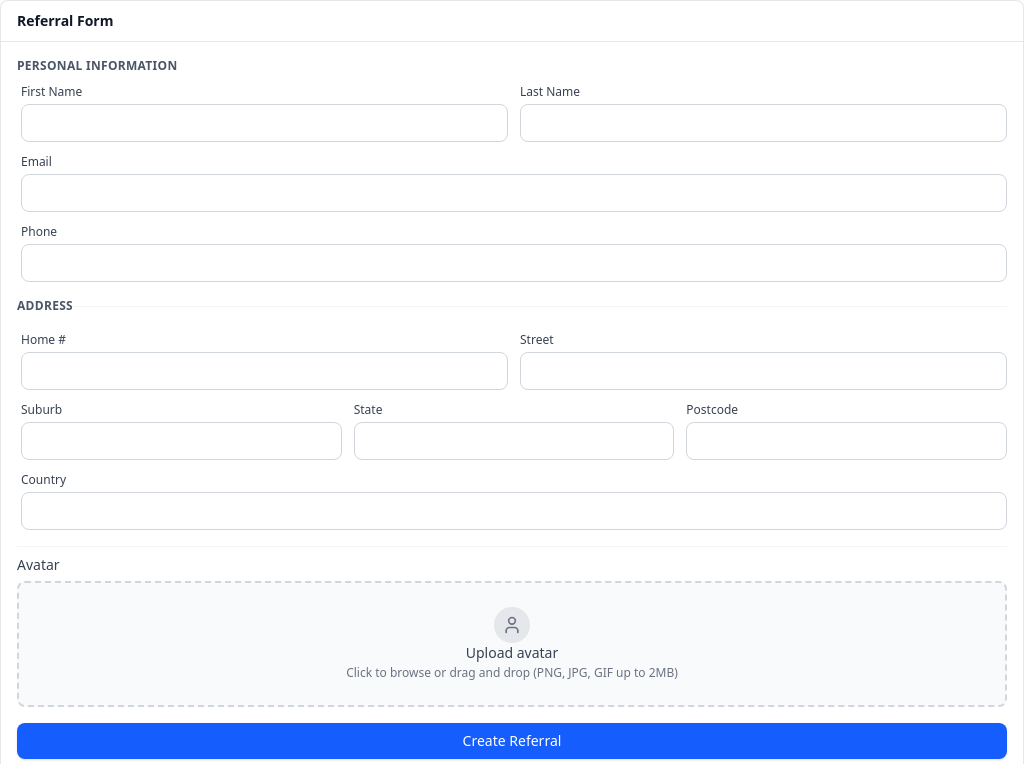
it: ReferralForm › shows validation errors when submitting empty form
What coordinates should you click on to do the following:
click the button "Create Referral"
I would click on:
 (512, 741)
Its box is [17,723,1007,759].
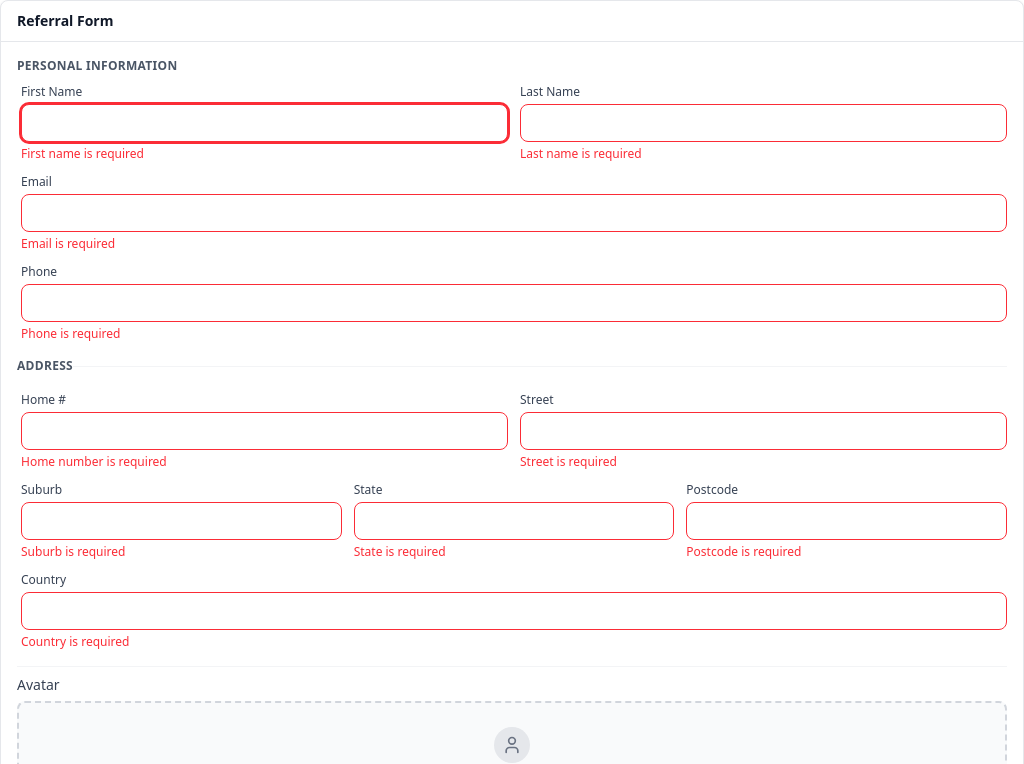
Result: the text "First name is required" is shown at [21,145,144,162]
